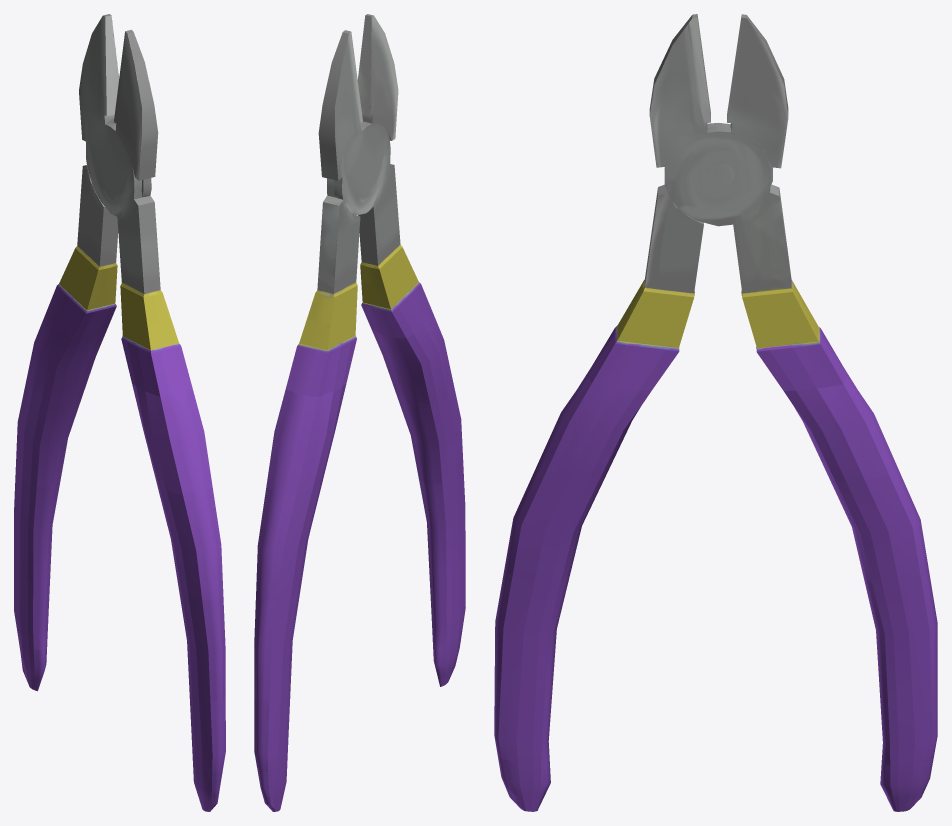
File: wirecutter.gltf
The picture shows the model from 3 angles, left to right: view 1: azimuth 30°, elevation 25°; view 2: azimuth 150°, elevation 25°; view 3: azimuth 270°, elevation 25°; orthographic projection. The views are drawn at different scales.
Parts seen in each view (by area): view 1: wirecutterOpen.001; view 2: wirecutterOpen.001; view 3: wirecutterOpen.001.
Part boxes in pixels (<box>): wirecutterOpen.001: <box>14,14,225,811</box>; wirecutterOpen.001: <box>254,14,465,811</box>; wirecutterOpen.001: <box>494,14,937,811</box>.
Bounding box in the file's own units: 0.000365 × 0.00543 × 0.00274.
Materials: 1 (1 with a texture image).
